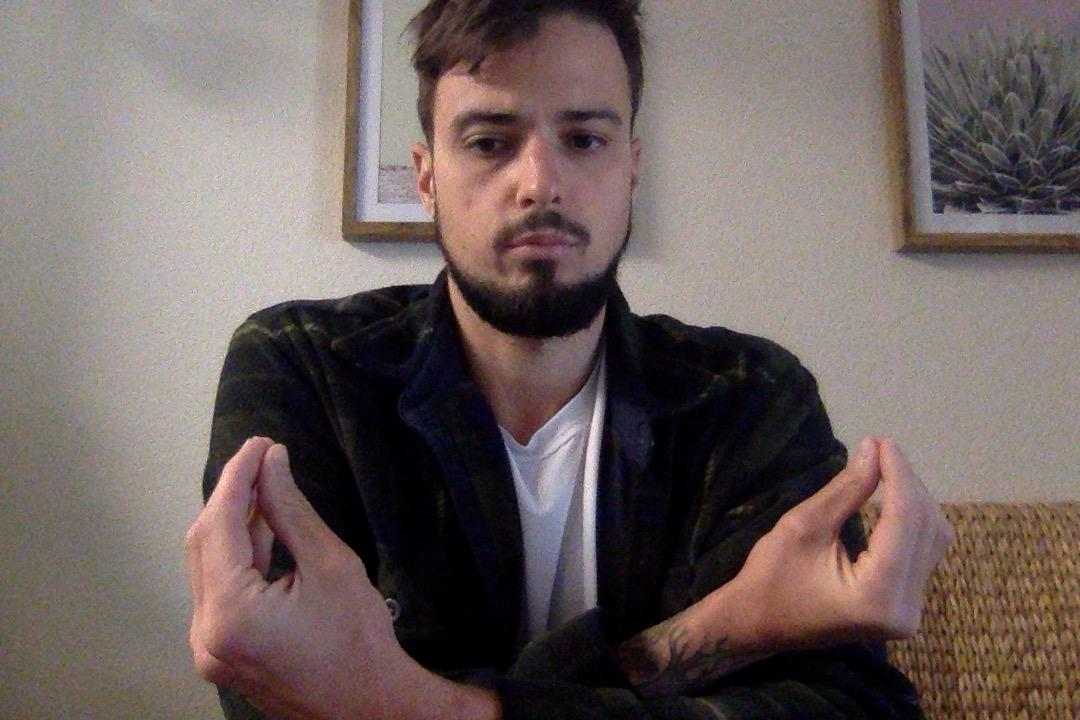Italian-Gesture: (179, 430, 413, 714), (730, 435, 942, 669)
